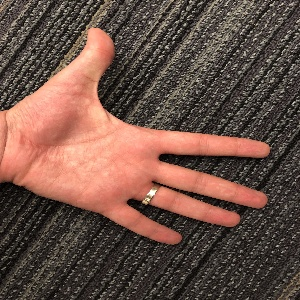hand: (11, 27, 269, 245)
